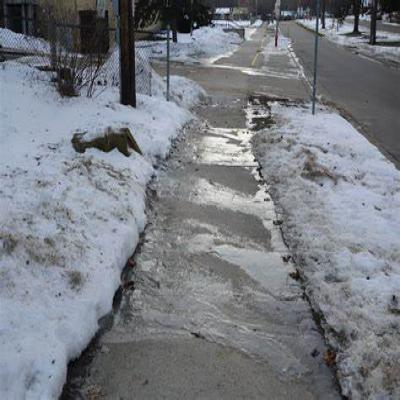clear-road: (318, 38, 400, 168), (283, 20, 315, 79)
iced-road: (133, 218, 319, 347), (188, 175, 288, 253), (203, 128, 257, 166)
